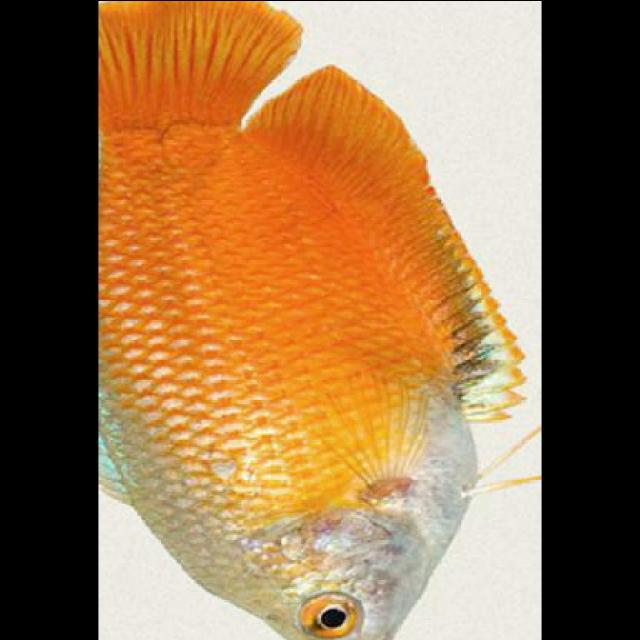Gourami: (97, 1, 528, 638)
